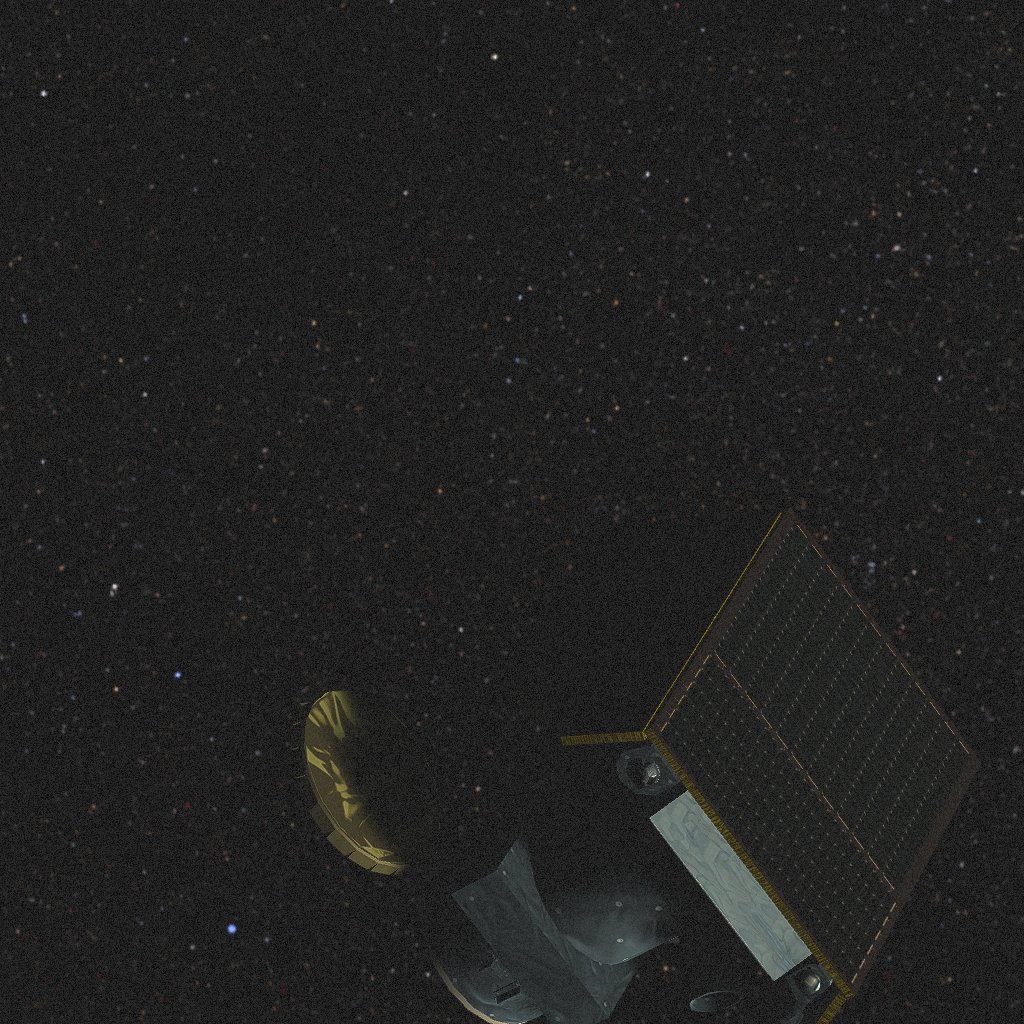cheops: (289, 507, 981, 1024)
